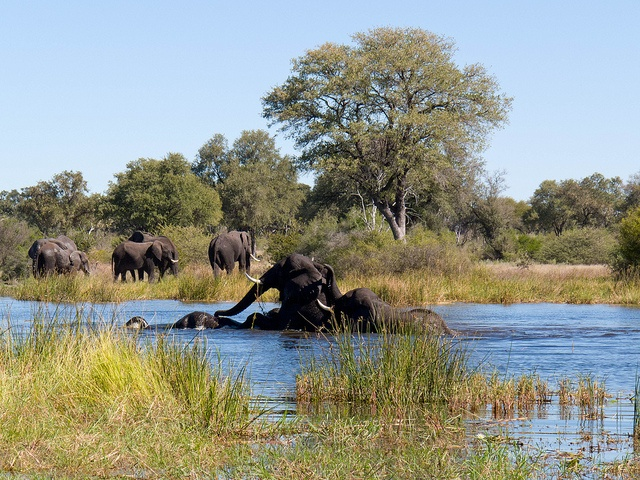elephant: (391, 299, 540, 373), (278, 288, 404, 366), (144, 261, 216, 306), (232, 252, 284, 303), (44, 258, 78, 302), (75, 263, 109, 293)
